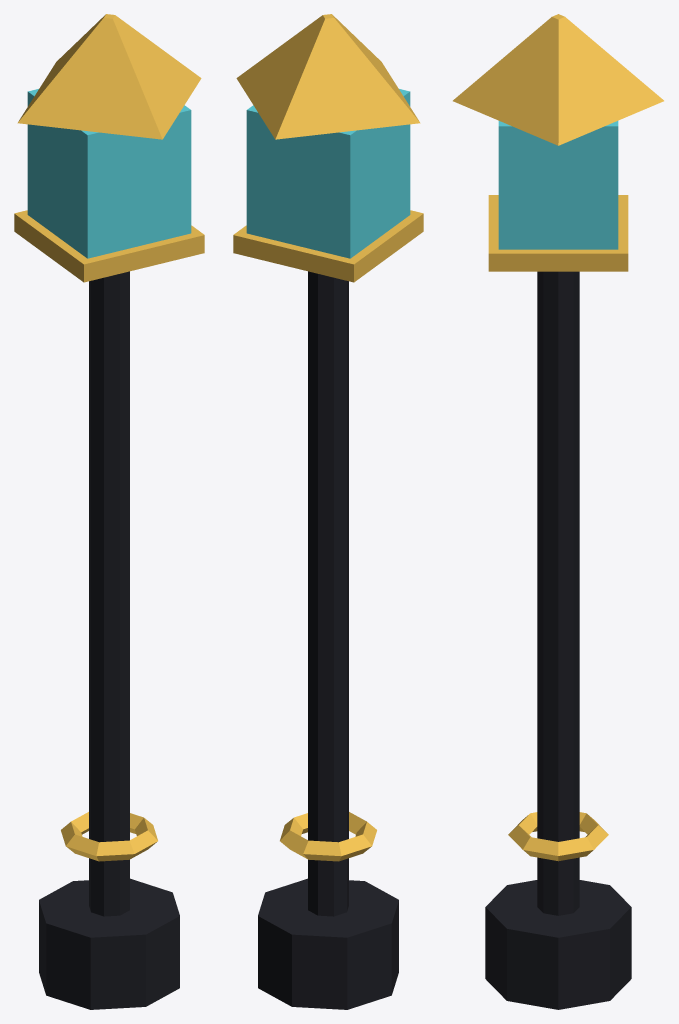
The model's file is mdl_z5_farol_dorado.fbx.
3 views of the same model, side by side, from view 1: azimuth 30°, elevation 25°; view 2: azimuth 150°, elevation 25°; view 3: azimuth 270°, elevation 25° (orthographic).
Visible parts, largest first — view 1: mdl_z5_farol_dorado; view 2: mdl_z5_farol_dorado; view 3: mdl_z5_farol_dorado.
Part boxes in pixels (x1,y1,x2,y2): mdl_z5_farol_dorado: [14, 14, 204, 1009]; mdl_z5_farol_dorado: [233, 14, 423, 1009]; mdl_z5_farol_dorado: [453, 14, 663, 1009].
Size of the model in its own units: 160 by 800 by 160.
